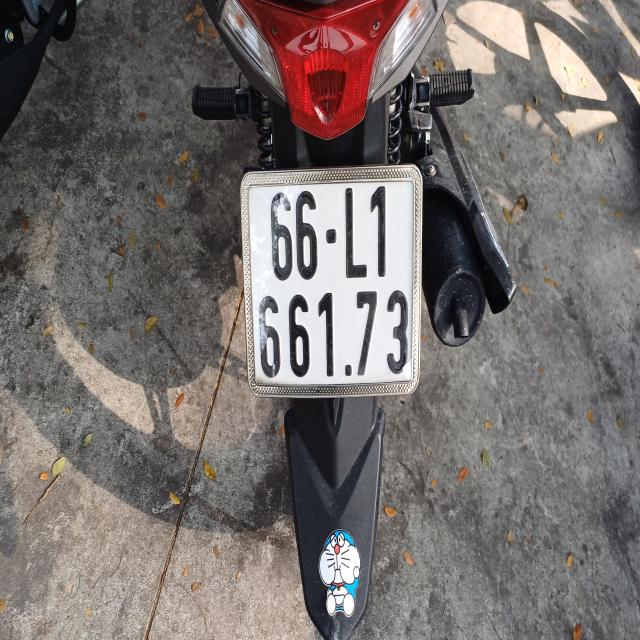1: (316, 284, 339, 380), (368, 185, 389, 278)
3: (384, 289, 412, 370)
6: (266, 187, 294, 280), (255, 289, 283, 377), (296, 186, 318, 285), (288, 295, 312, 379)
7: (352, 282, 380, 376)
L: (340, 179, 368, 280)
